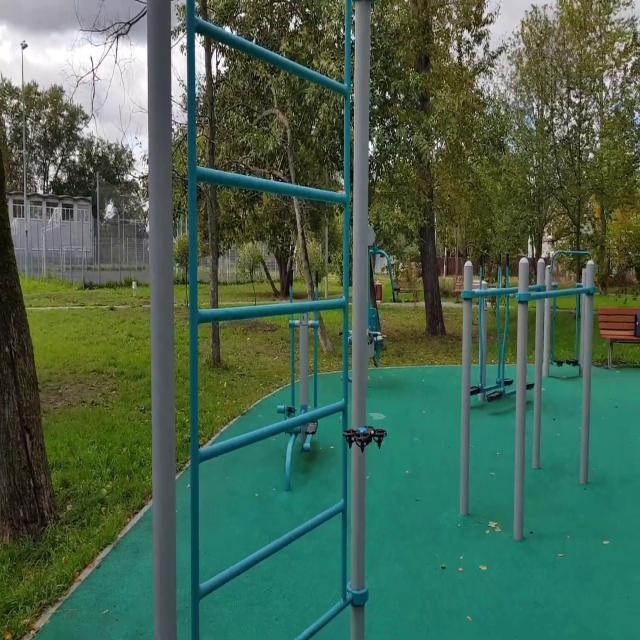Drons: (336, 421, 388, 456)
